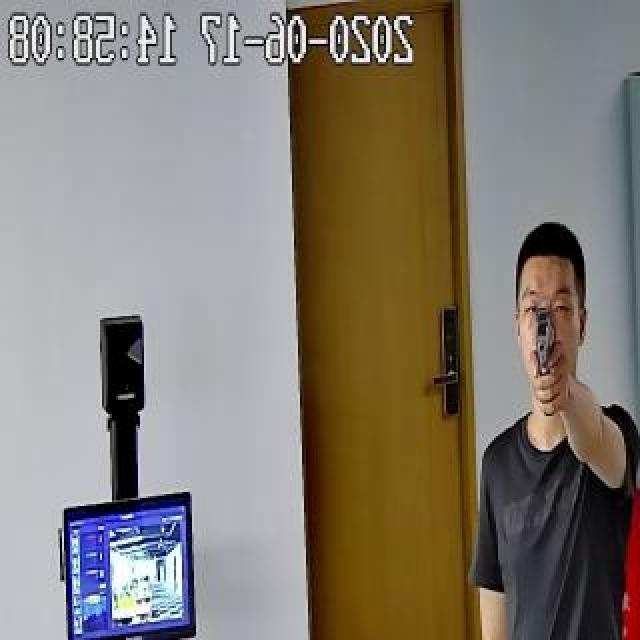Guns: (521, 294, 577, 416)
